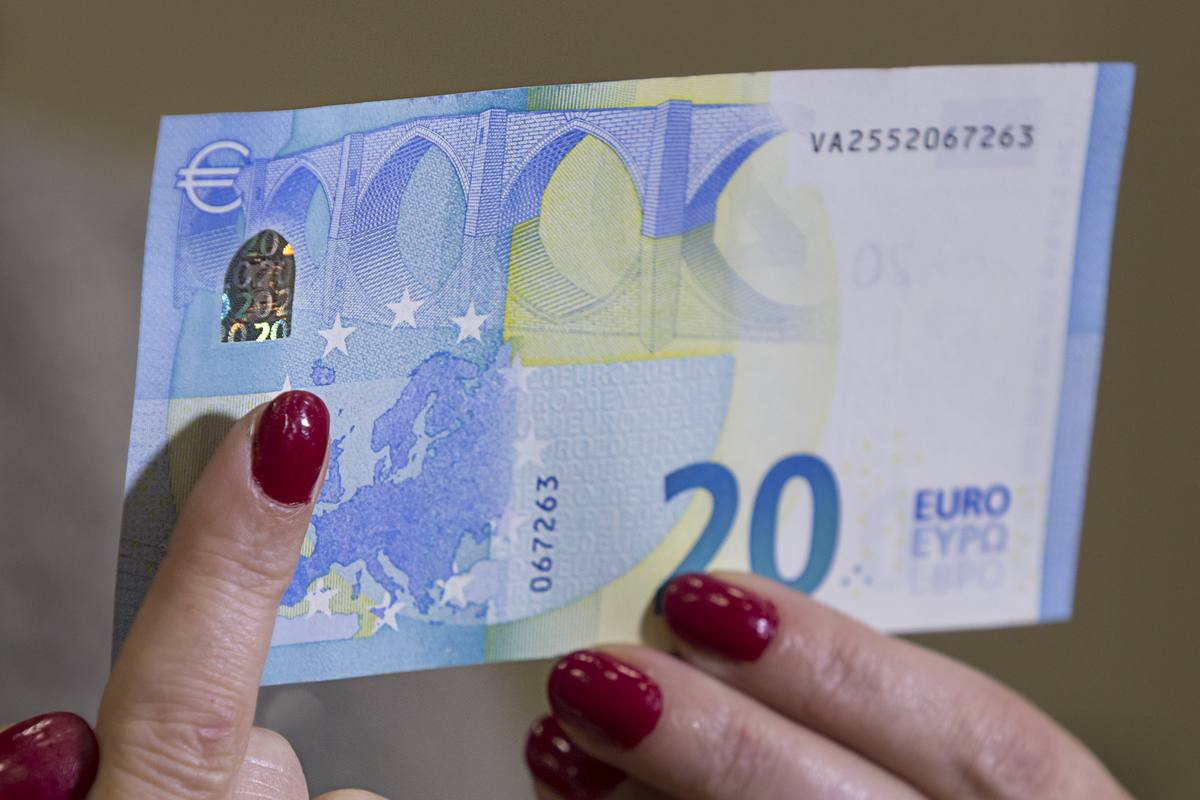billete: (106, 58, 1143, 691)
